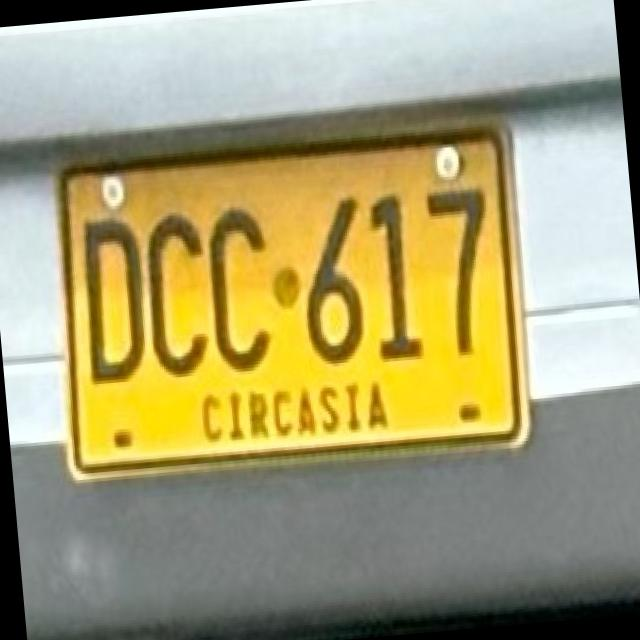number plate: (57, 122, 525, 471)
